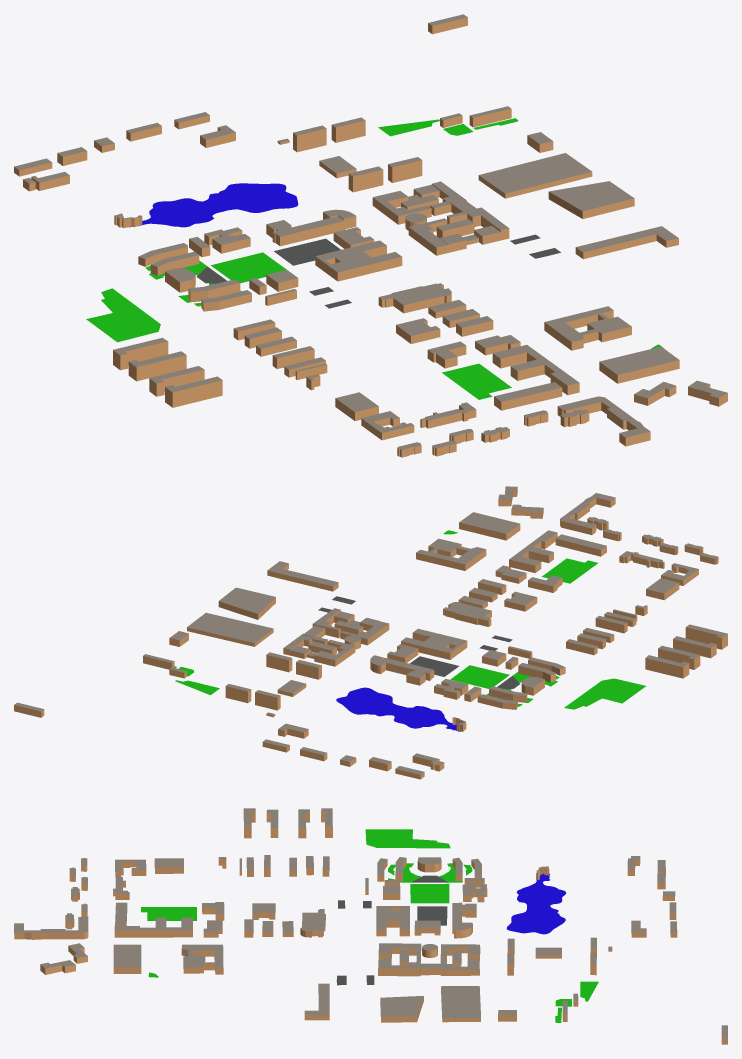
File: LiangxiangMap.glb
3 renders of one model, top to bottom at view 1: azimuth 30°, elevation 25°; view 2: azimuth 150°, elevation 25°; view 3: azimuth 270°, elevation 25°, orthographic. The views are drawn at different scales.
Visible parts, largest first — view 1: map.osm_buildings, map.osm_vegetation, map.osm_water, map.osm_areas_pedestrian; view 2: map.osm_buildings, map.osm_vegetation, map.osm_water, map.osm_areas_pedestrian; view 3: map.osm_buildings, map.osm_vegetation, map.osm_water, map.osm_areas_pedestrian.
Boxes of the visible parts, x1,y1,x2,y2 form: map.osm_buildings: [14, 14, 727, 457]; map.osm_vegetation: [86, 118, 664, 399]; map.osm_water: [129, 183, 298, 227]; map.osm_areas_pedestrian: [196, 234, 560, 308]; map.osm_buildings: [14, 486, 727, 779]; map.osm_vegetation: [174, 530, 645, 709]; map.osm_water: [336, 687, 460, 731]; map.osm_areas_pedestrian: [318, 596, 519, 689]; map.osm_buildings: [14, 808, 727, 1044]; map.osm_vegetation: [141, 829, 598, 1022]; map.osm_water: [506, 873, 565, 934]; map.osm_areas_pedestrian: [336, 875, 448, 985].
Bounding box in the file's own units: 1261 × 32.83 × 1690.
